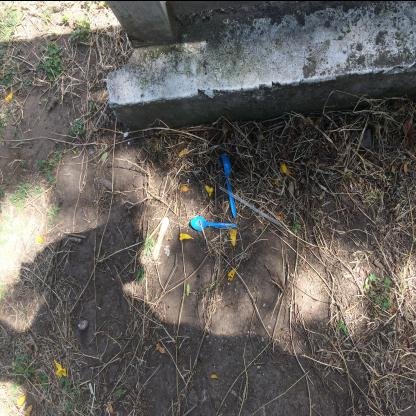plastik: (219, 185, 281, 225), (221, 154, 236, 218), (190, 216, 238, 230)
